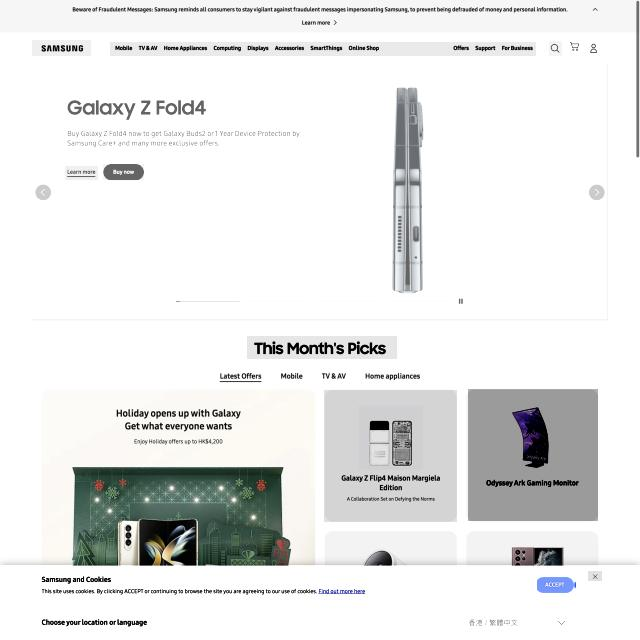CheckBox: (103, 164, 144, 180), (538, 576, 576, 593), (65, 166, 98, 180)
Switch: (32, 64, 607, 319)
alert: (458, 611, 576, 633)
breadcrumbs: (324, 390, 457, 522), (468, 389, 598, 521), (247, 336, 397, 359)
carousel: (568, 41, 582, 56), (549, 41, 562, 56), (588, 40, 599, 56), (588, 571, 602, 581)
data feed: (112, 167, 135, 176)
date picker: (32, 40, 91, 56)
decoration: (110, 42, 536, 56)
header: (0, 565, 640, 639)
image: (64, 95, 211, 121)
